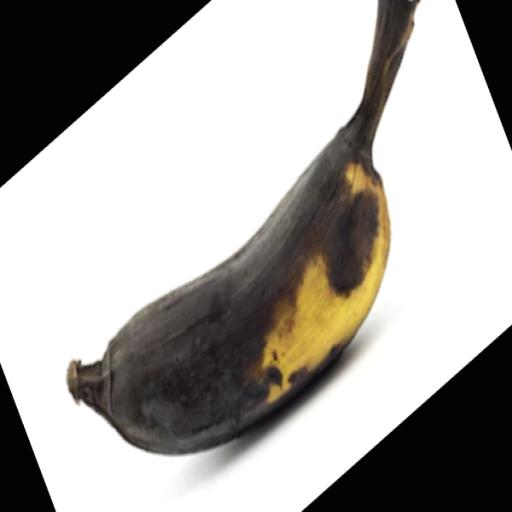banana-overripe: (21, 0, 471, 512)
